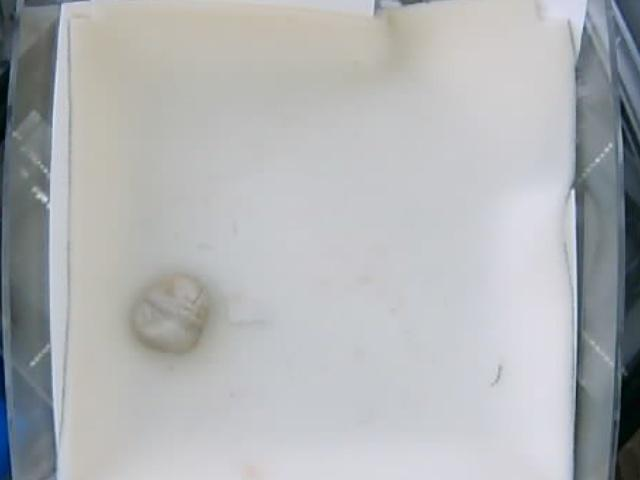Pebble: (130, 273, 210, 354)
